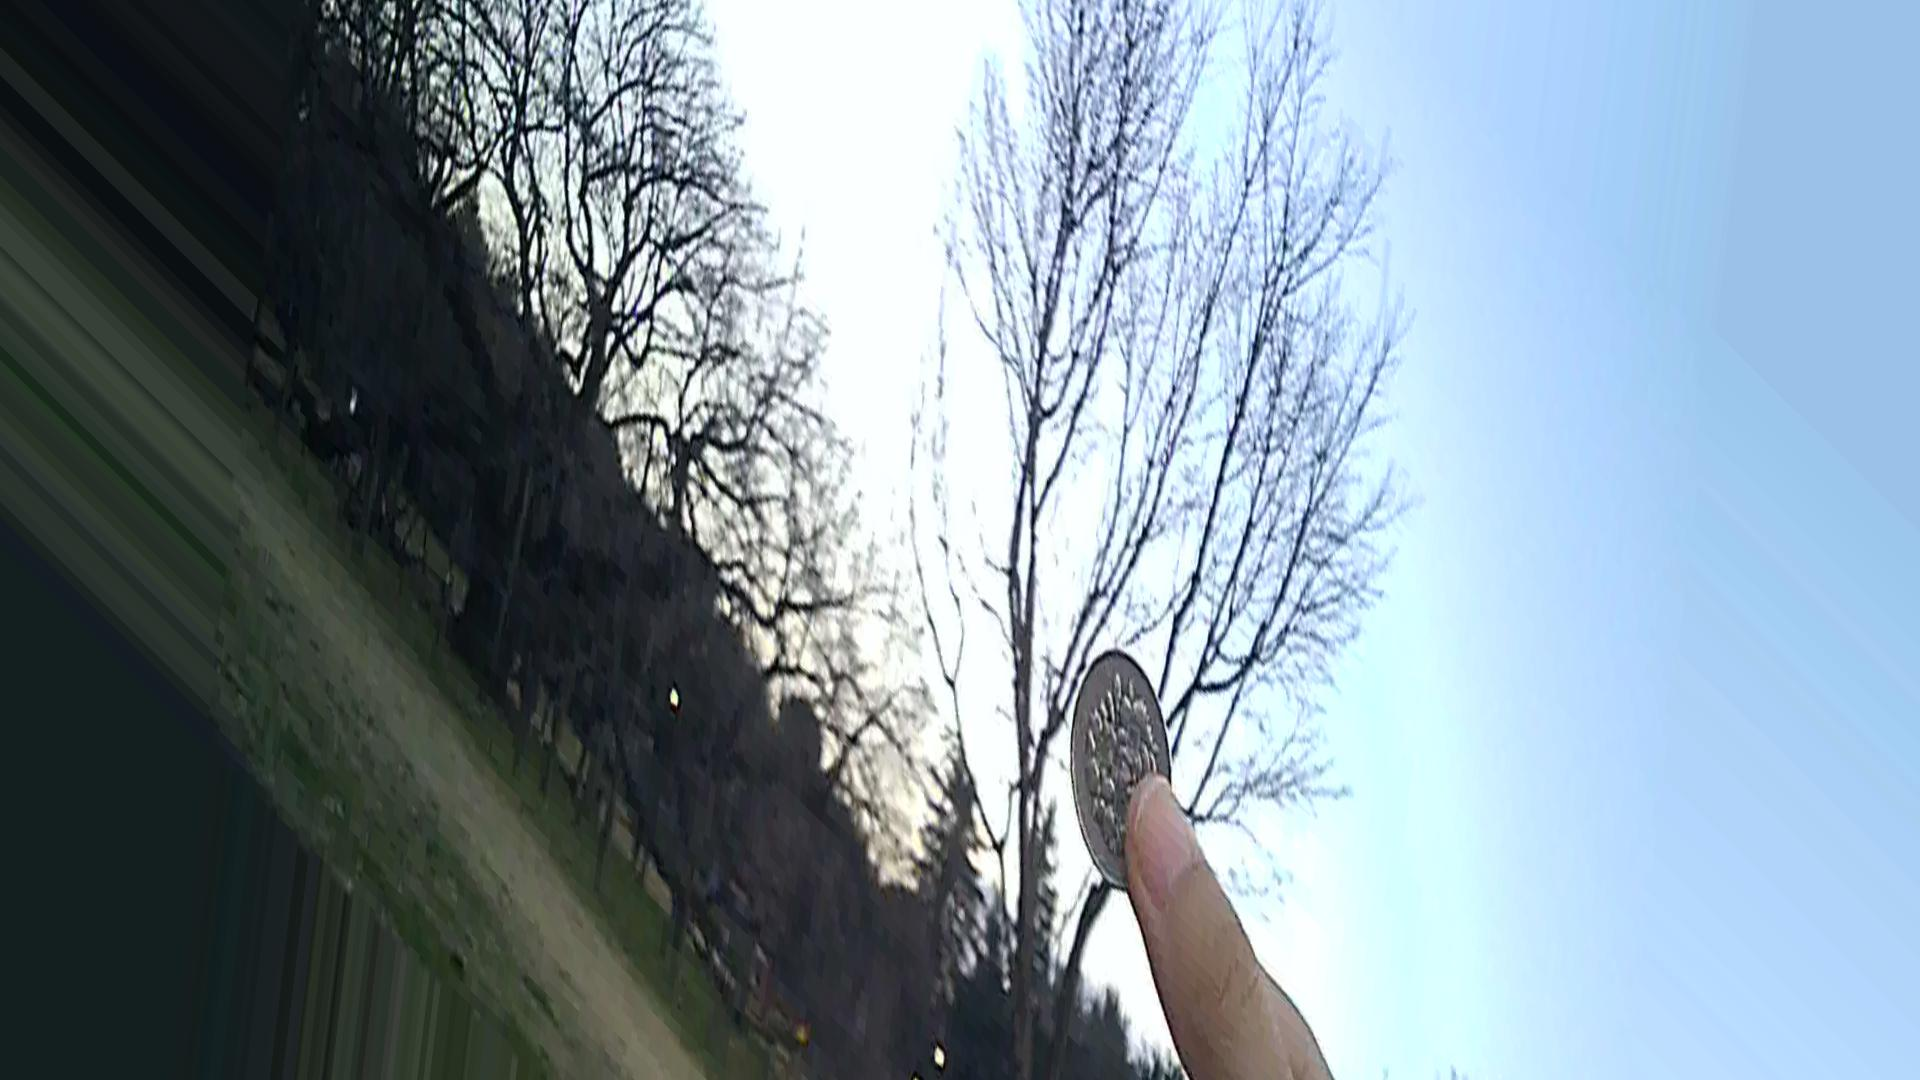100 Yen: (1060, 642, 1203, 901)
